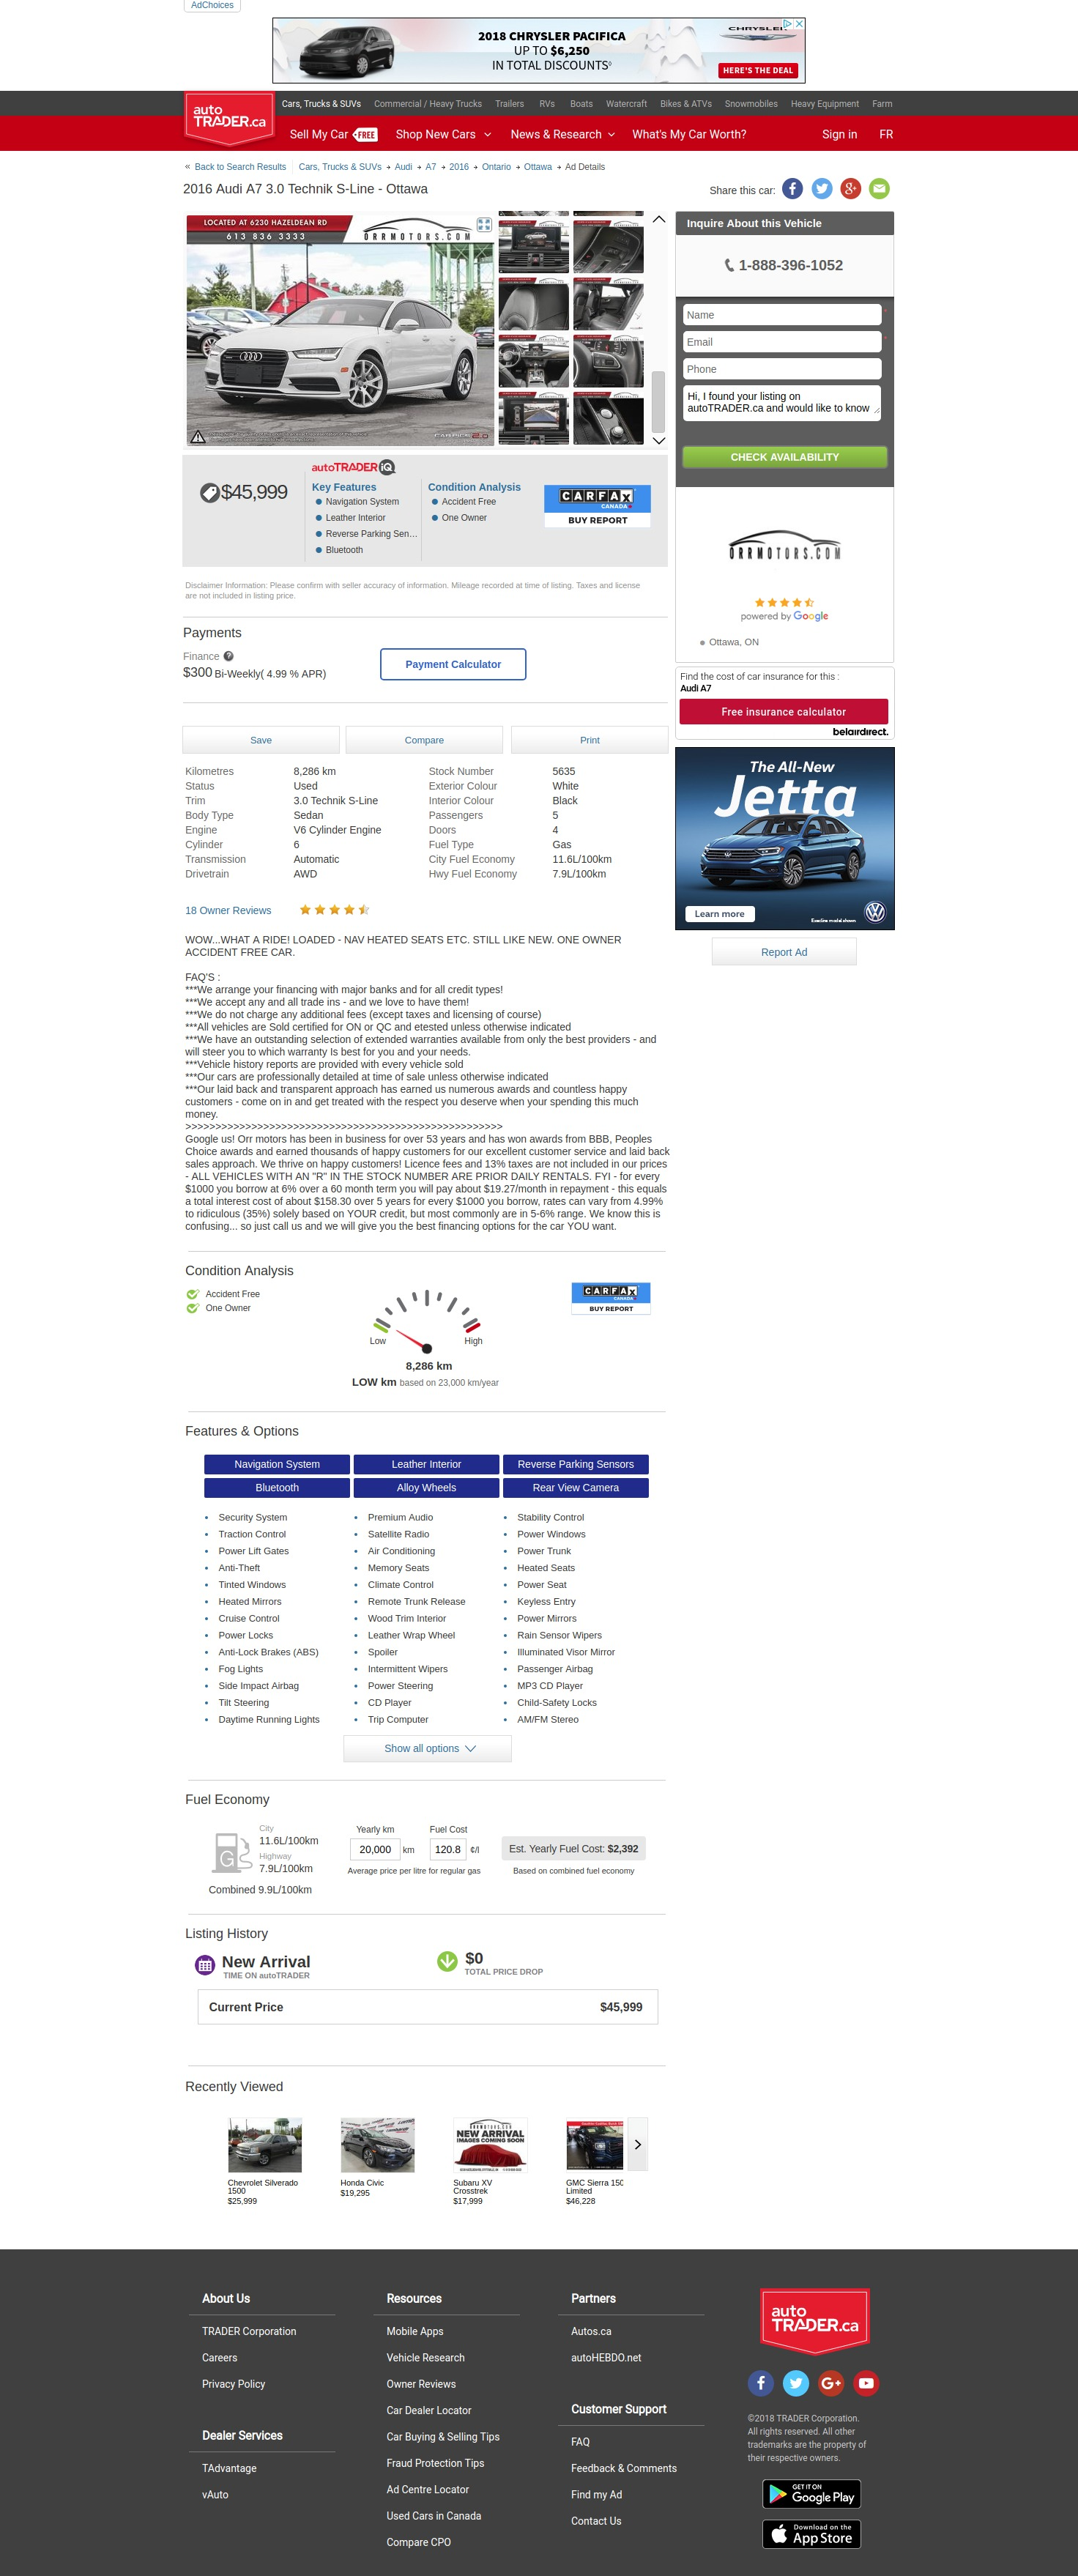car: (654, 435, 667, 447)
